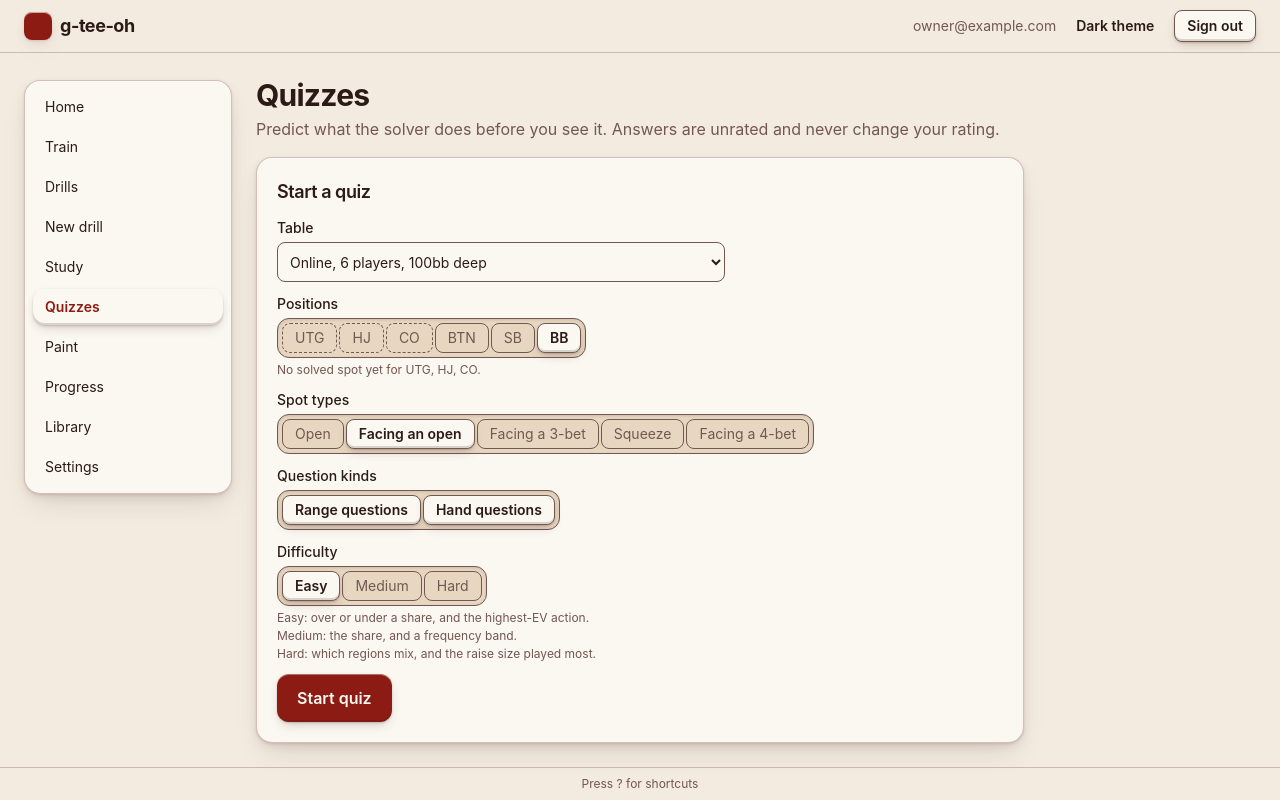
Test: R3.16 the required reason (O-412) › R3.16 Submit and the Enter hotkey wait for 3 visible characters (the shared rule)
Click the button "Start quiz" at [334, 698], box [277,674,392,722]
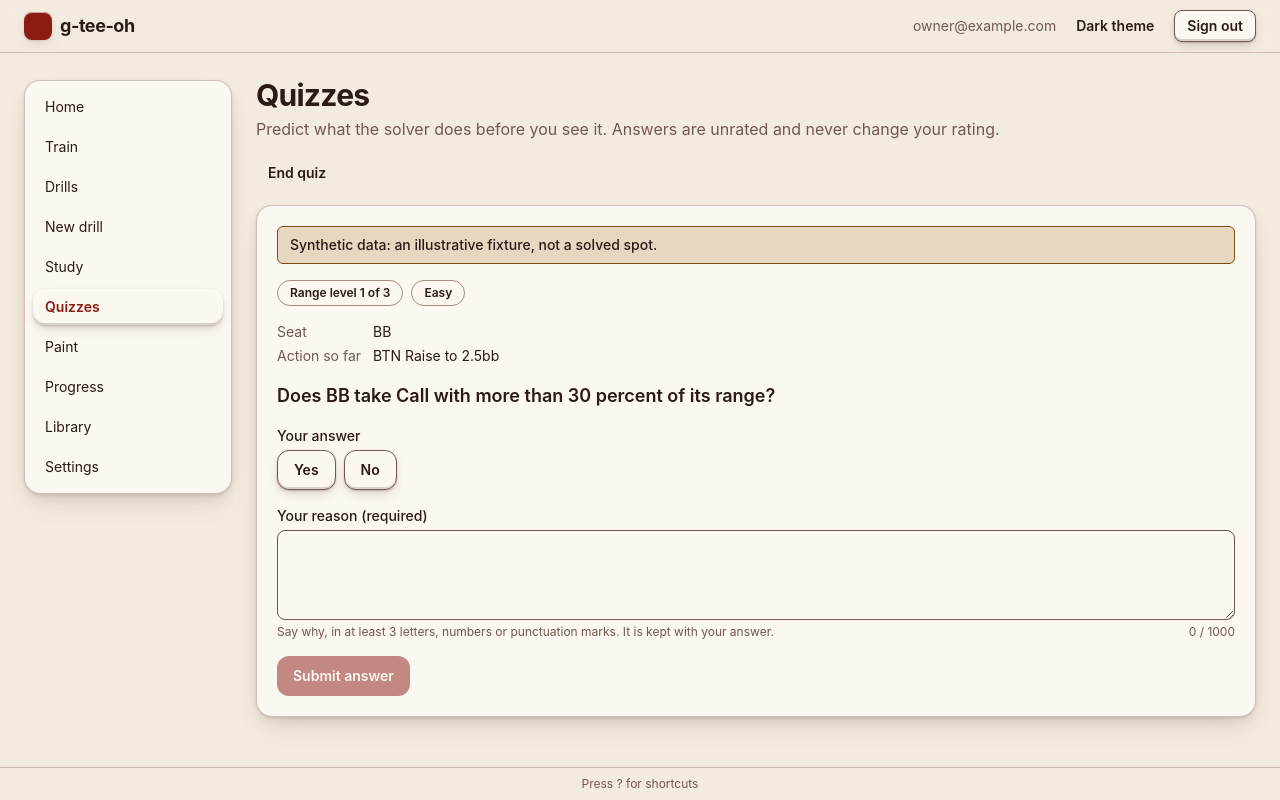
Check: the heading "Does BB take Call with more than 30 percent of its range?" is shown, box [277,385,775,406]
Click the button "Yes" at [306, 470], box [277,450,336,490]
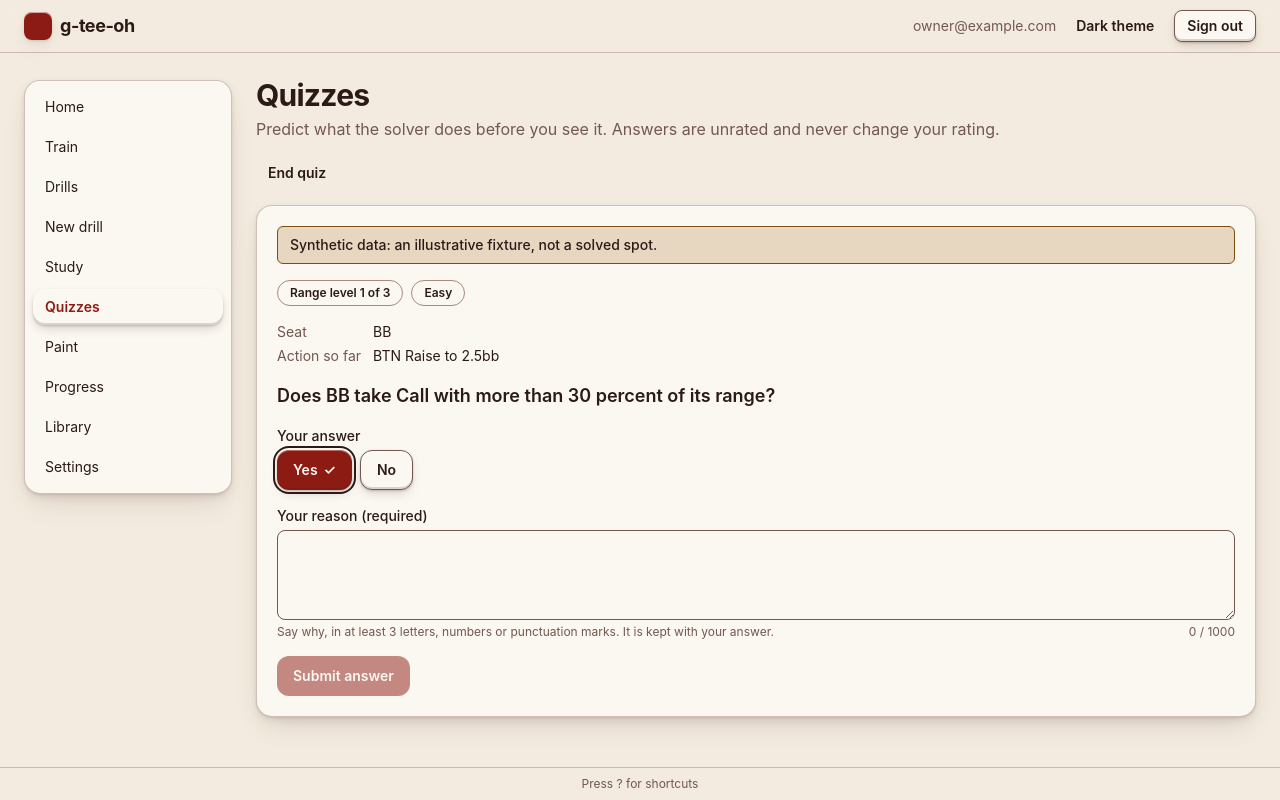
Type "  ab   " into the text box labelled "Your reason (required)" at [756, 575], box [277,530,1235,620]
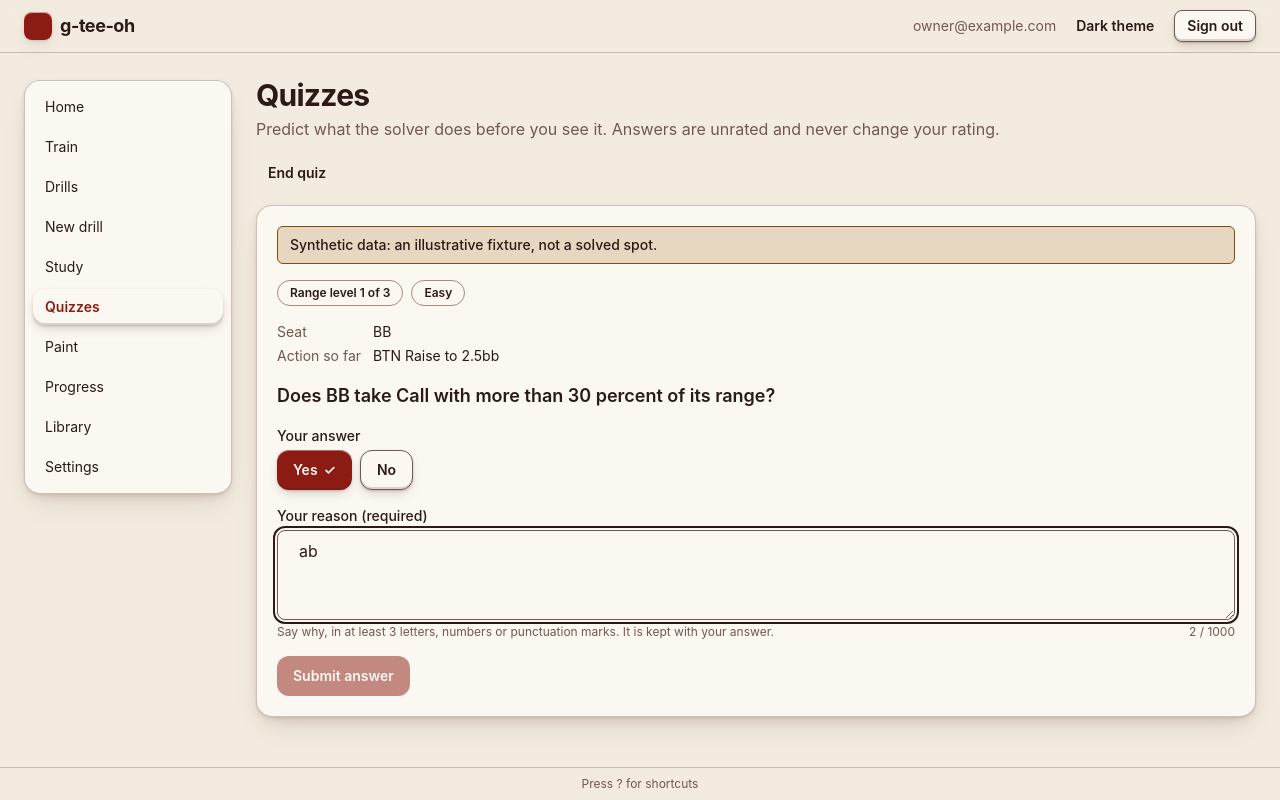
Check: the button "Submit answer" is disabled, box [277,656,410,696]
Click the button "Yes ✓" at [314, 470], box [277,450,352,490]
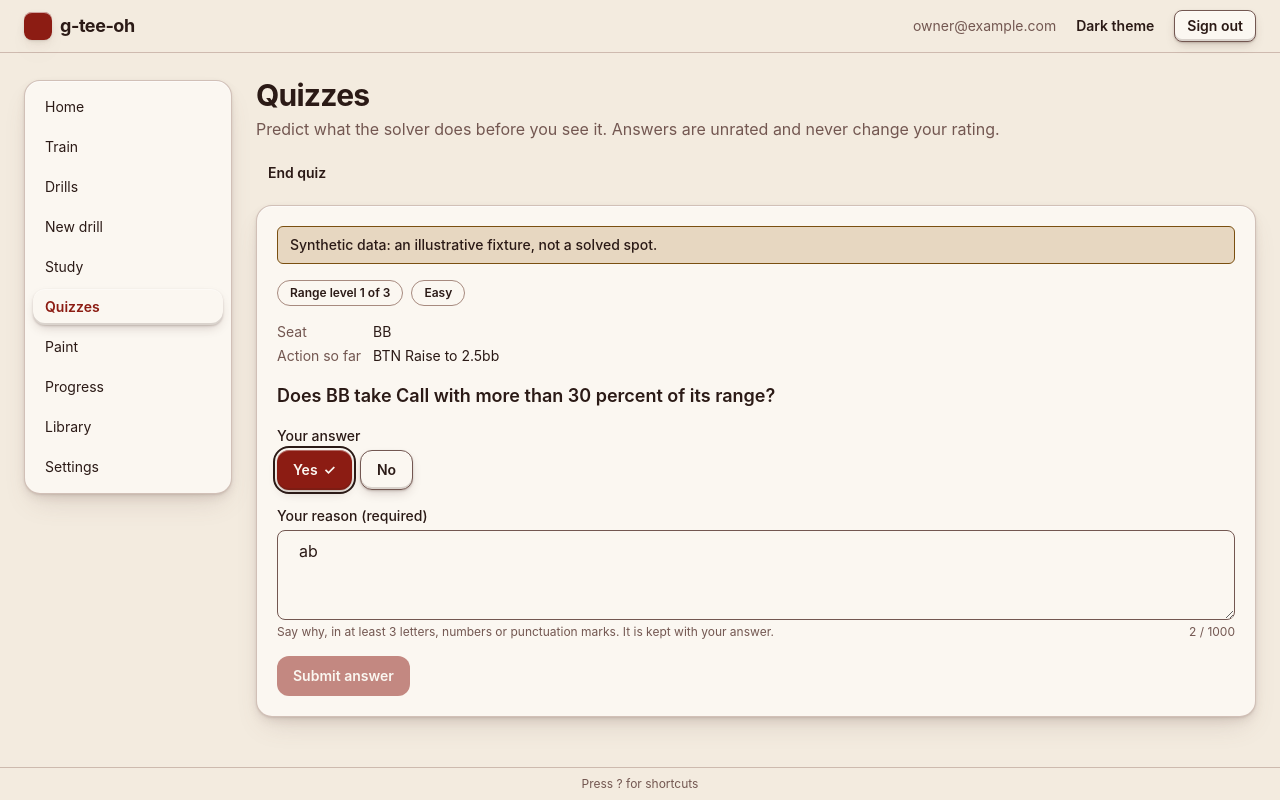
Press Enter
Type "c" into the text box labelled "Your reason (required)" at [756, 575], box [277,530,1235,620]
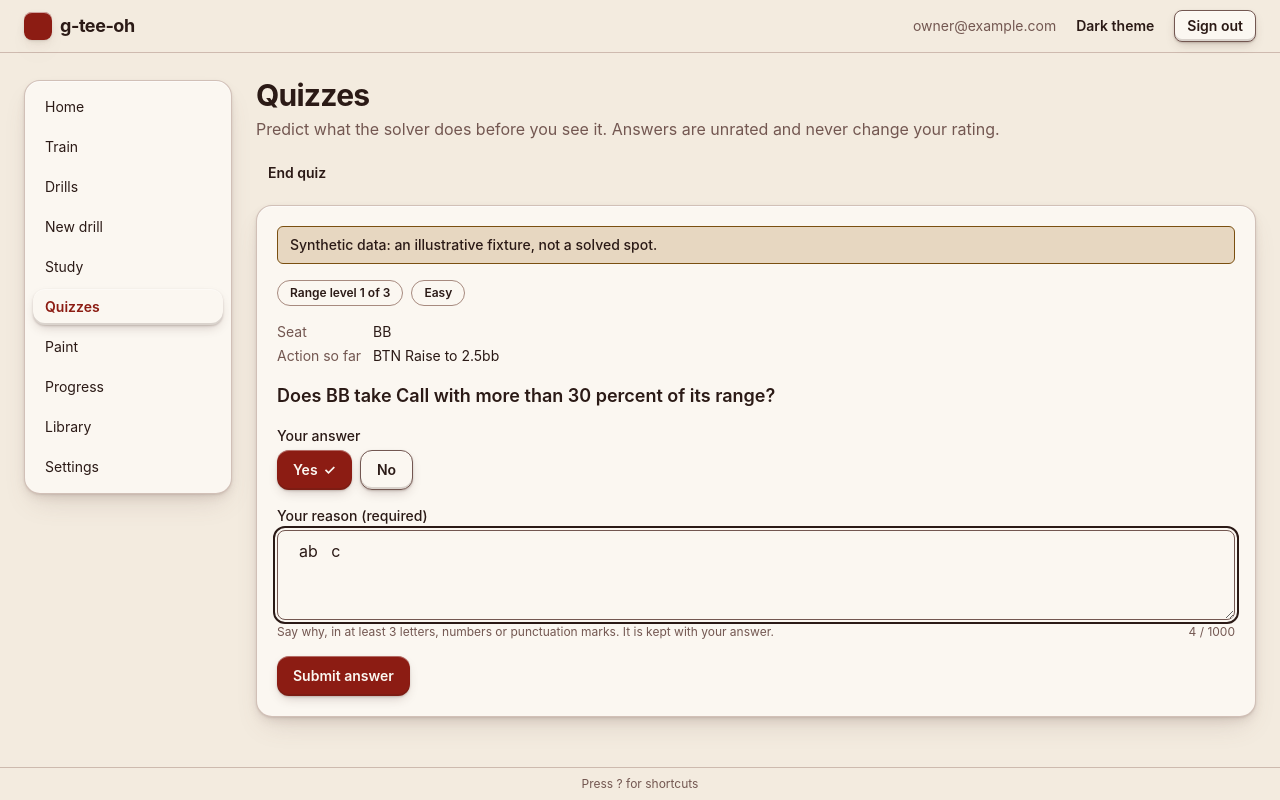
Check: the button "Submit answer" is enabled, box [277,656,410,696]
